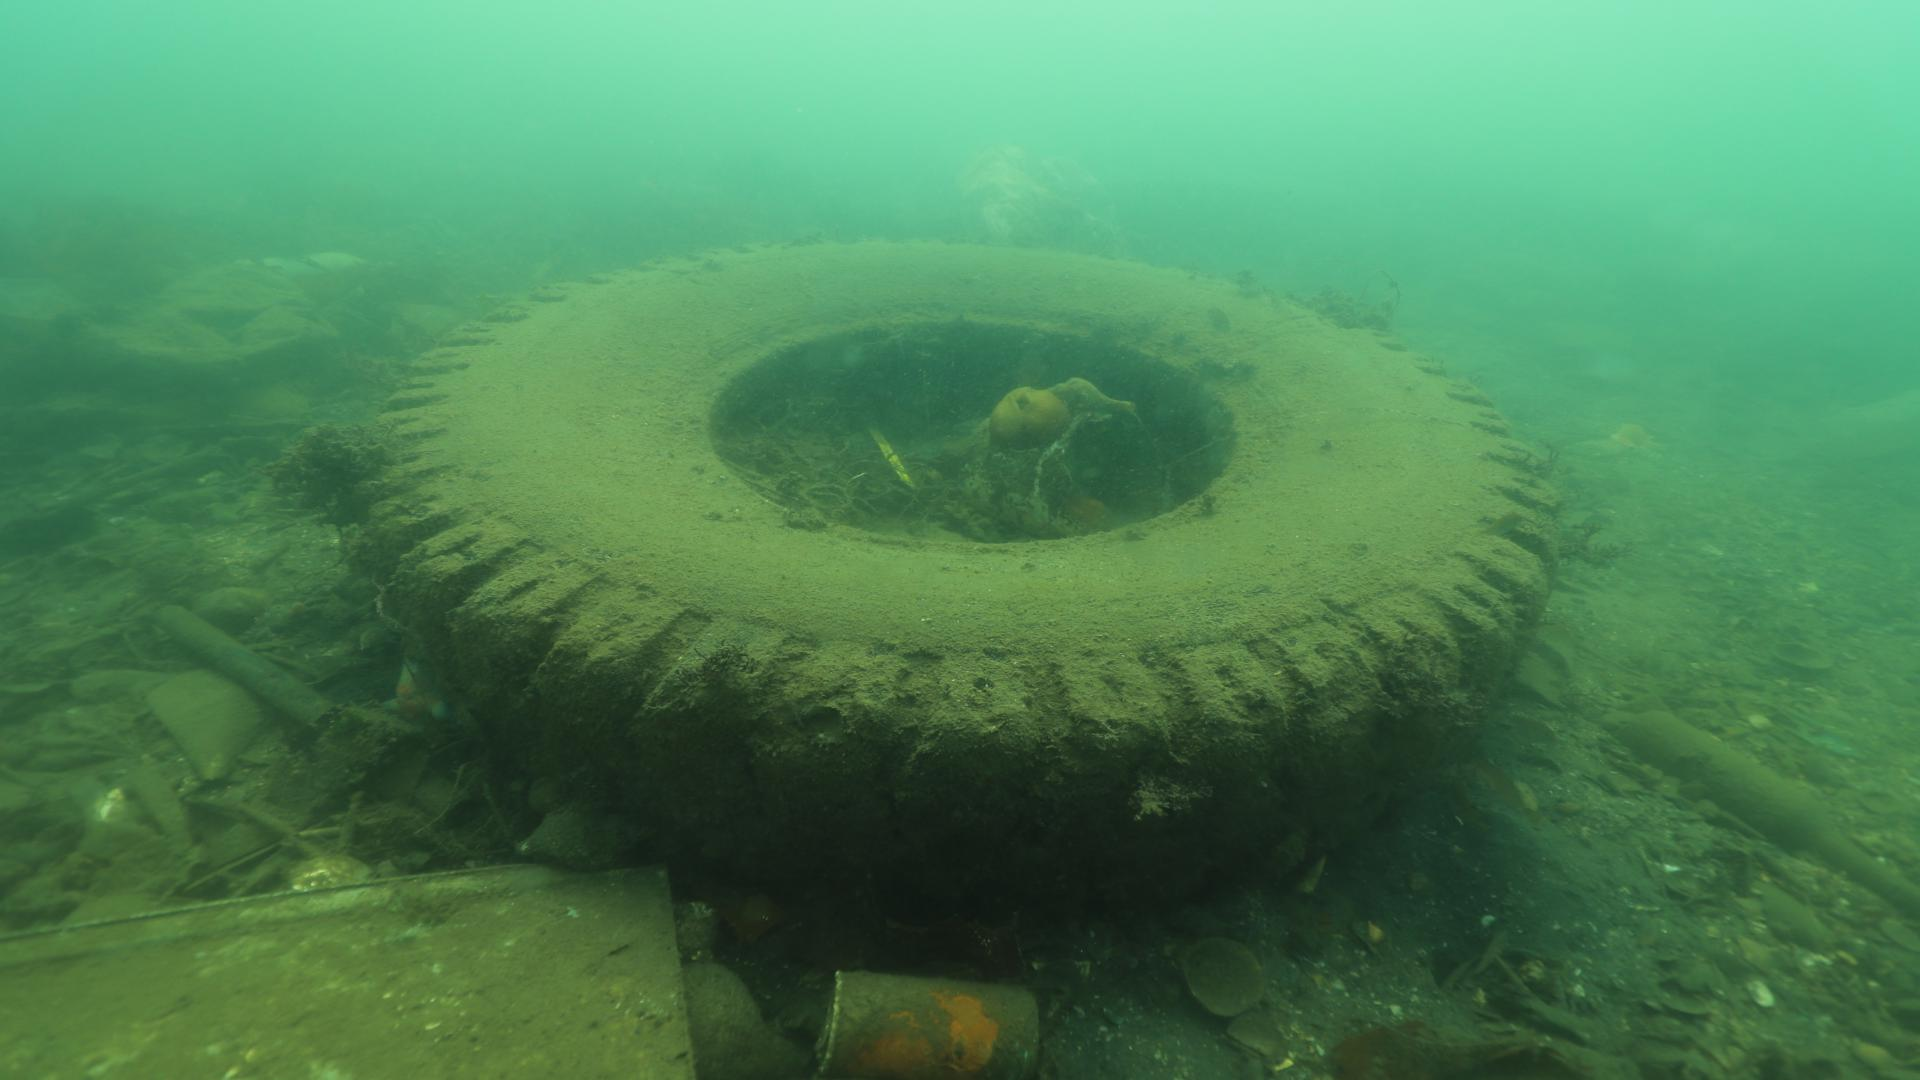tire: (368, 231, 1561, 916)
